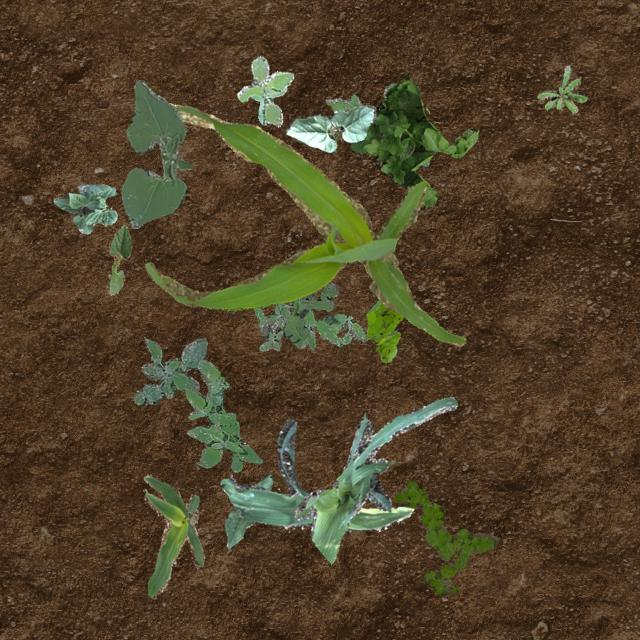crop: (144, 103, 464, 345), (294, 396, 456, 564), (220, 416, 412, 530), (120, 78, 192, 228), (142, 474, 204, 596), (286, 104, 374, 152), (224, 474, 272, 548), (52, 182, 116, 232), (106, 224, 130, 294)
weed: (347, 74, 478, 208), (393, 478, 498, 594), (185, 358, 262, 472), (325, 82, 429, 166), (254, 296, 366, 351), (132, 338, 206, 406), (236, 54, 292, 126), (282, 282, 338, 342), (536, 64, 586, 112), (366, 298, 402, 362)
